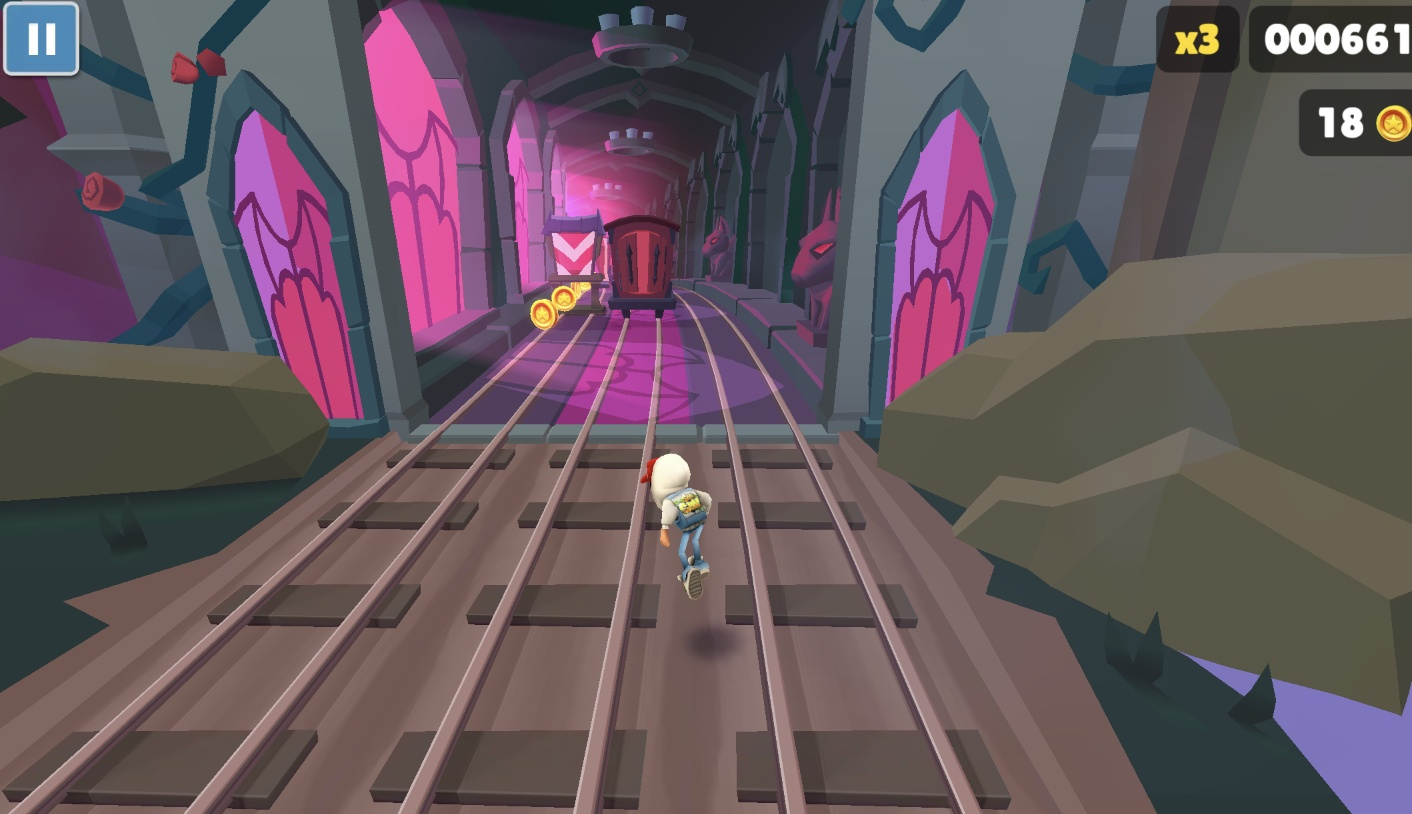overhead_barrier: (543, 216, 609, 318)
train: (599, 217, 684, 321)
